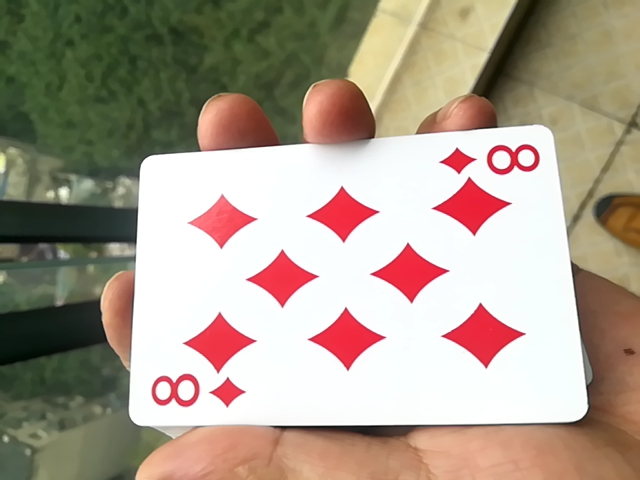fk 8: (113, 136, 579, 452)
